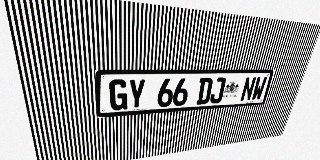6: (157, 78, 175, 107), (172, 78, 190, 106)
D: (196, 78, 213, 105)
G: (109, 79, 128, 111)
J: (209, 77, 226, 104)
N: (240, 77, 257, 101)
W: (251, 77, 267, 101)
Y: (128, 79, 146, 110)
